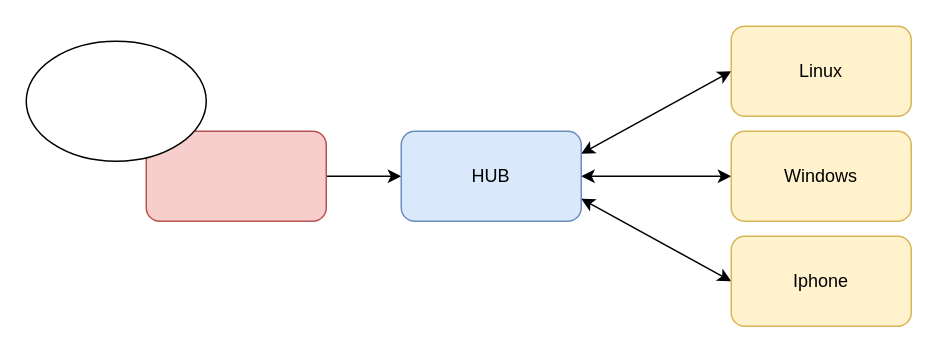
This 938x353 diagram has some shape labels left out. Here are the shapes that lost their labels. From the top down, the centre of each, then its label:
the point at 115,100: Jenkins Java Python C#
the point at 235,175: Client
